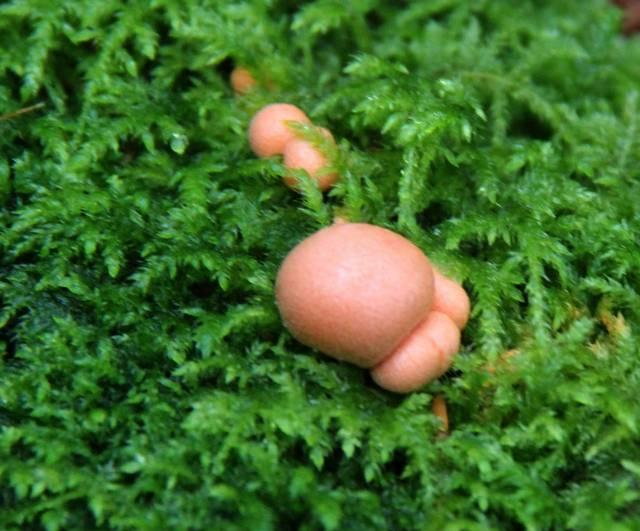poisonous_mushroom: (272, 218, 470, 393), (247, 101, 341, 193), (281, 124, 341, 193), (247, 101, 313, 159)
